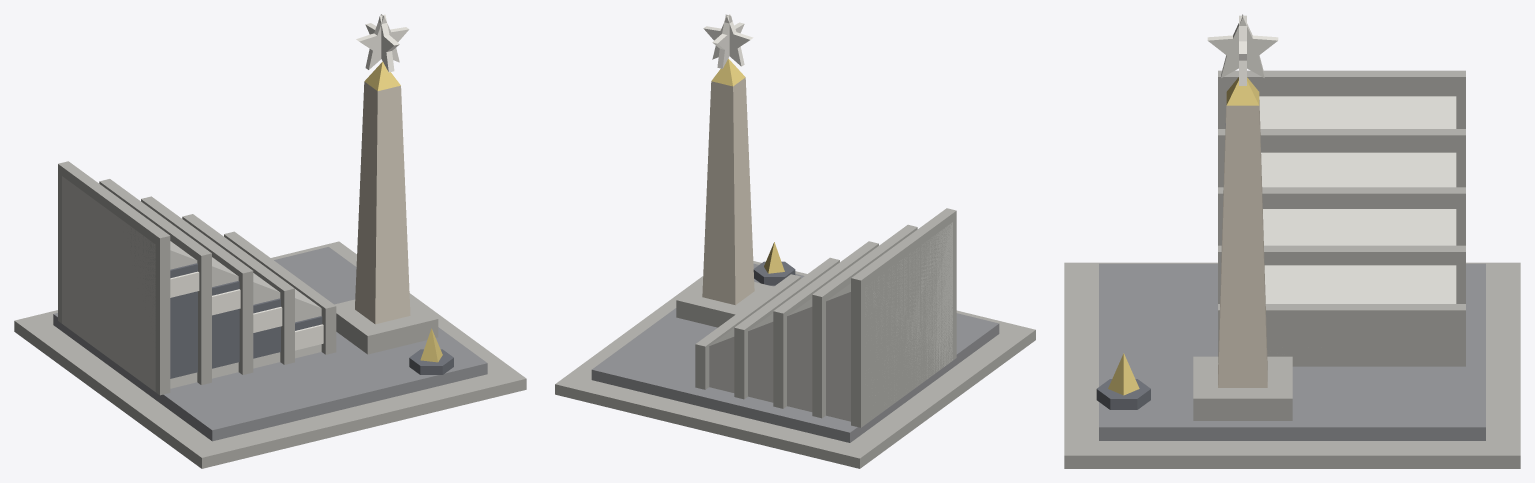
The model's file is temple.glb.
3 views of the same model, side by side, from view 1: azimuth 30°, elevation 25°; view 2: azimuth 150°, elevation 25°; view 3: azimuth 270°, elevation 25° (orthographic). The views are drawn at different scales.
Visible parts, largest first — view 1: soviet_bloc_temple; view 2: soviet_bloc_temple; view 3: soviet_bloc_temple.
Part boxes in pixels (left/top/right/bottom): soviet_bloc_temple: left=14, top=14, right=526, bottom=468; soviet_bloc_temple: left=555, top=14, right=1035, bottom=468; soviet_bloc_temple: left=1064, top=14, right=1520, bottom=468.
Bounding box in the file's own units: 0.92 × 0.915 × 0.92.
